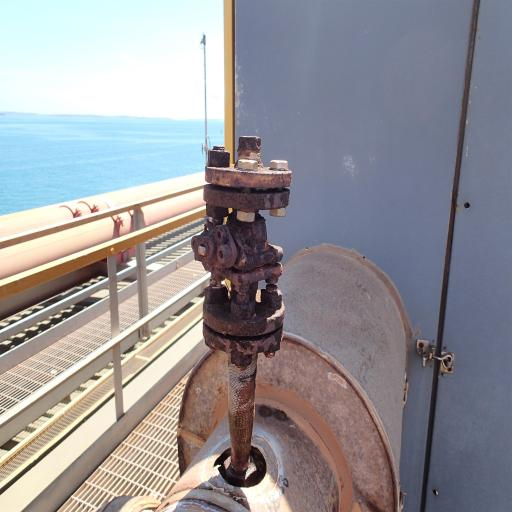segmentation: (244, 250, 405, 512), (177, 352, 229, 480), (192, 206, 283, 274), (203, 288, 284, 336), (203, 318, 283, 355), (204, 184, 290, 212), (205, 166, 292, 189), (159, 491, 227, 512), (237, 136, 261, 169), (232, 278, 258, 302), (207, 146, 230, 167), (230, 351, 255, 368), (184, 480, 214, 489), (216, 477, 224, 488)
